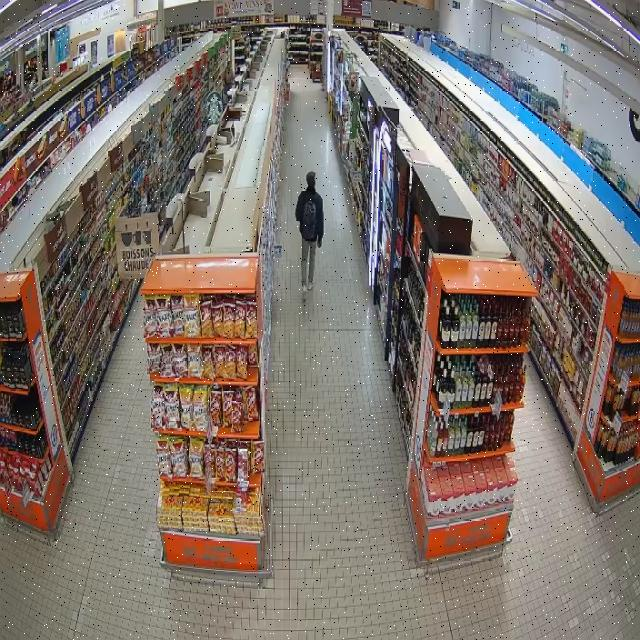bags: (301, 198, 316, 240)
hands: (318, 239, 321, 247)
person: (296, 172, 323, 301)
